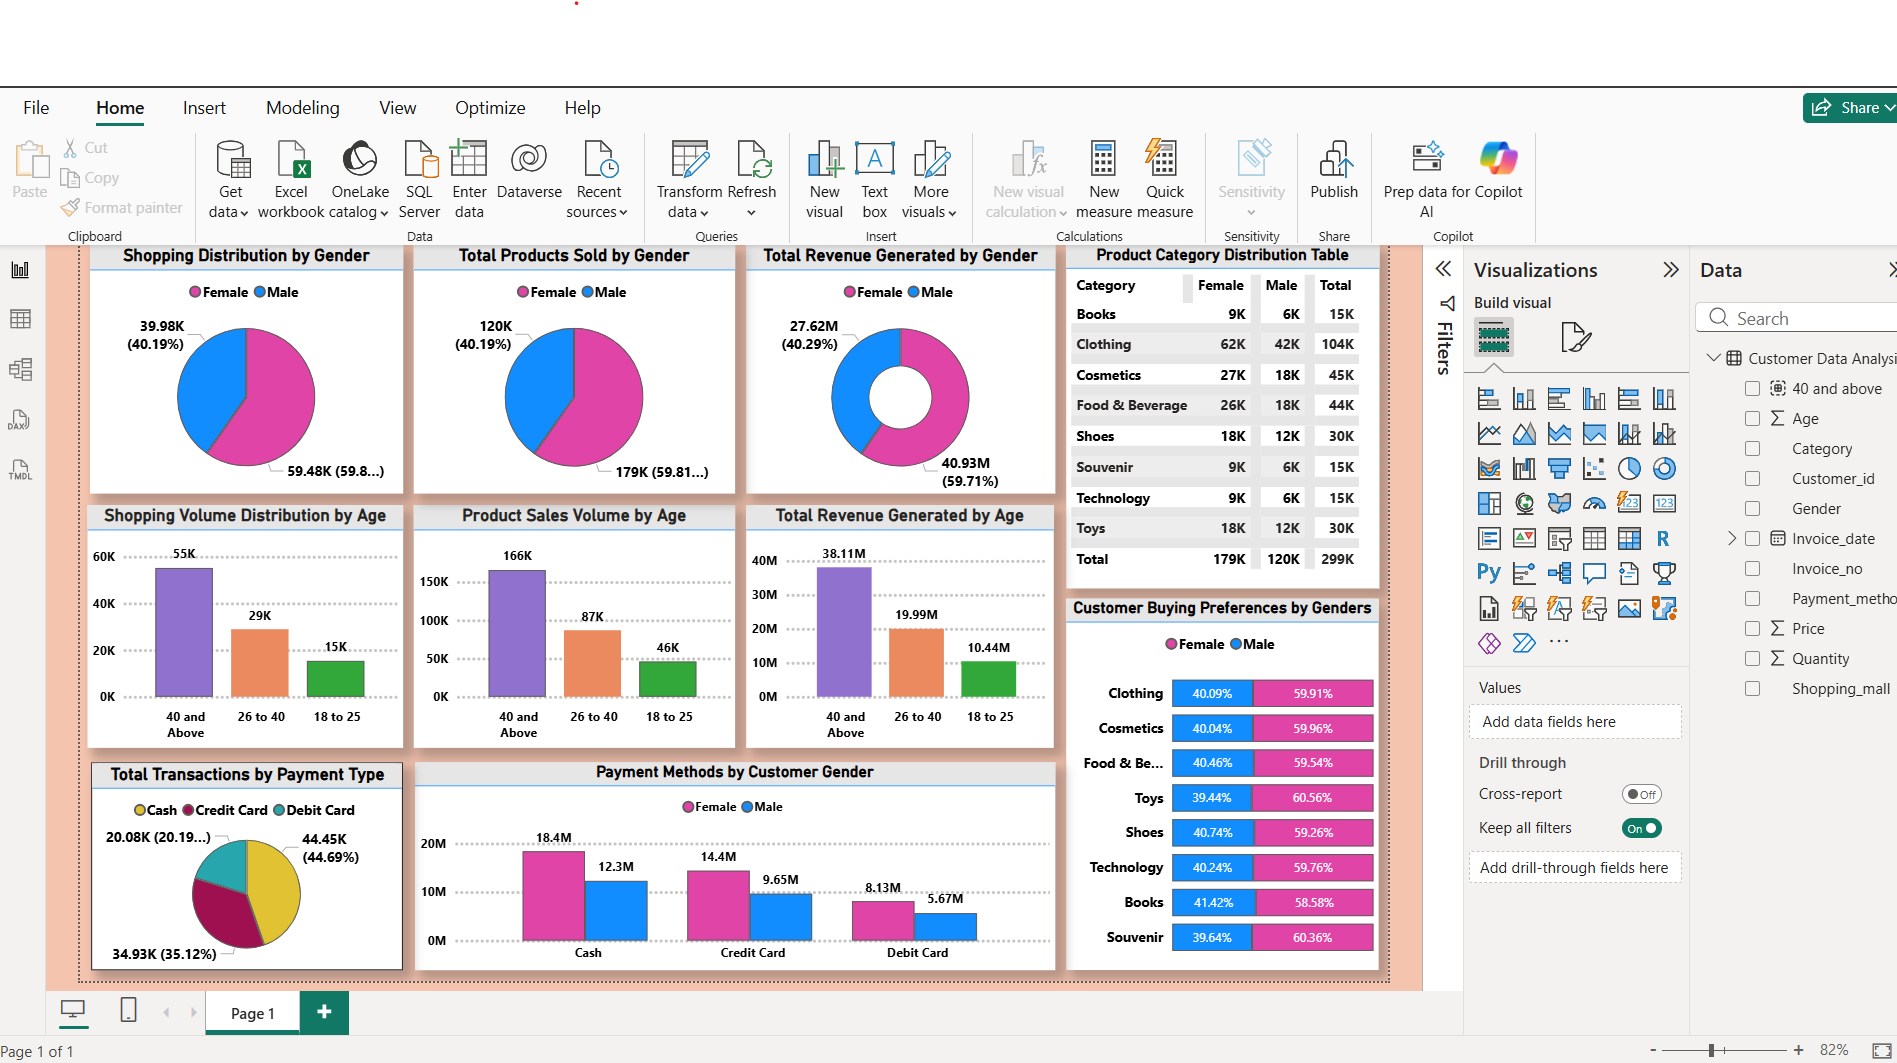

What the dashboard file says about the page in this screenshot:
{"tool":"powerbi","page":{"name":"Page 1","canvas":[1280,720],"ordinal":0},"visuals":[{"type":"donutChart","title":"Total Revenue Generated by Gender","fields":{"Category":["Customer Data Analysis.Gender"],"Y":["Sum(Customer Data Analysis.Price)"]},"box":[651.8,0,302,243.3],"z":0},{"type":"pieChart","title":"Shopping Distribution by Gender ","fields":{"Category":["Customer Data Analysis.Gender"],"Y":["CountNonNull(Customer Data Analysis.Invoice_no)"]},"box":[9.6,0,306,242.9],"z":1000},{"type":"pivotTable","title":"Product Category Distribution Table","fields":{"Rows":["Customer Data Analysis.Category"],"Columns":["Customer Data Analysis.Gender"],"Values":["Sum(Customer Data Analysis.Quantity)"]},"box":[964.7,0,306,336.2],"z":2000},{"type":"clusteredColumnChart","title":"Shopping Volume Distribution by Age","fields":{"Category":["Customer Data Analysis.40 and above"],"Y":["CountNonNull(Customer Data Analysis.40 and above)"]},"box":[6.9,253.9,308.7,237.4],"z":3000},{"type":"clusteredColumnChart","title":"Product Sales Volume by Age","fields":{"Category":["Customer Data Analysis.40 and above"],"Y":["Sum(Customer Data Analysis.Quantity)"]},"box":[326.6,253.9,314.2,237.4],"z":4000},{"type":"clusteredColumnChart","title":"Total Revenue Generated by Age","fields":{"Category":["Customer Data Analysis.40 and above"],"Y":["Sum(Customer Data Analysis.Price)"]},"box":[651.8,253.9,300.5,237.4],"z":5000},{"type":"hundredPercentStackedBarChart","title":"Customer Buying Preferences by Genders ","fields":{"Category":["Customer Data Analysis.Category"],"Y":["Sum(Customer Data Analysis.Quantity)"],"Series":["Customer Data Analysis.Gender"]},"box":[964.8,346.1,305.7,363.2],"z":6000},{"type":"clusteredColumnChart","title":"Payment Methods by Customer Gender","fields":{"Category":["Customer Data Analysis.Payment_method"],"Y":["Sum(Customer Data Analysis.Price)"],"Series":["Customer Data Analysis.Gender"]},"box":[327.7,506.3,626.1,203],"z":7000},{"type":"pieChart","title":"Total Transactions by Payment Type","fields":{"Category":["Customer Data Analysis.Payment_method"],"Y":["CountNonNull(Customer Data Analysis.Shopping_mall)"]},"box":[11,506.3,304.5,203],"z":8000},{"type":"pieChart","title":"Total Products Sold by Gender","fields":{"Category":["Customer Data Analysis.Gender"],"Y":["Sum(Customer Data Analysis.Quantity)"]},"box":[327,0,314,243],"z":9000}]}

Visuals, with their boxes on the page's 1280x720 design canvas (x1, y1, x2, y2). These are canvas units, not pixel positions in the 1897x1063 screenshot, which may show the page scaled, cropped or inside an application window:
"Total Revenue Generated by Gender" donutChart: rect(652, 0, 954, 243)
"Shopping Distribution by Gender " pieChart: rect(10, 0, 316, 243)
"Product Category Distribution Table" pivotTable: rect(965, 0, 1271, 336)
"Shopping Volume Distribution by Age" clusteredColumnChart: rect(7, 254, 316, 491)
"Product Sales Volume by Age" clusteredColumnChart: rect(327, 254, 641, 491)
"Total Revenue Generated by Age" clusteredColumnChart: rect(652, 254, 952, 491)
"Customer Buying Preferences by Genders " hundredPercentStackedBarChart: rect(965, 346, 1270, 709)
"Payment Methods by Customer Gender" clusteredColumnChart: rect(328, 506, 954, 709)
"Total Transactions by Payment Type" pieChart: rect(11, 506, 316, 709)
"Total Products Sold by Gender" pieChart: rect(327, 0, 641, 243)
